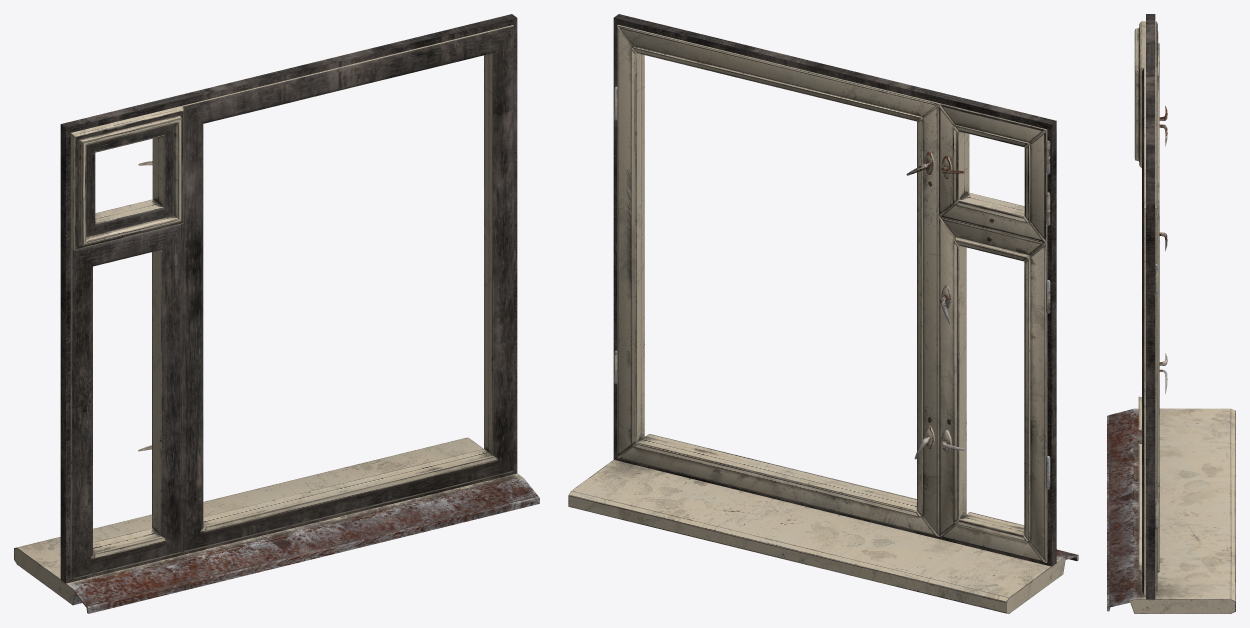
File: SM_WindowNarrow01.FBX
3 renders of one model, left to right at view 1: azimuth 30°, elevation 25°; view 2: azimuth 150°, elevation 25°; view 3: azimuth 270°, elevation 25°, orthographic. The views are drawn at different scales.
Visible parts, largest first — view 1: SM_WindowNarrow01_LOD0; view 2: SM_WindowNarrow01_LOD0; view 3: SM_WindowNarrow01_LOD0.
Boxes of the visible parts, <box> form: SM_WindowNarrow01_LOD0: <box>14,14,539,613</box>; SM_WindowNarrow01_LOD0: <box>568,14,1078,613</box>; SM_WindowNarrow01_LOD0: <box>1107,14,1235,613</box>.
Size of the model in its own units: 140 by 39.96 by 140.
